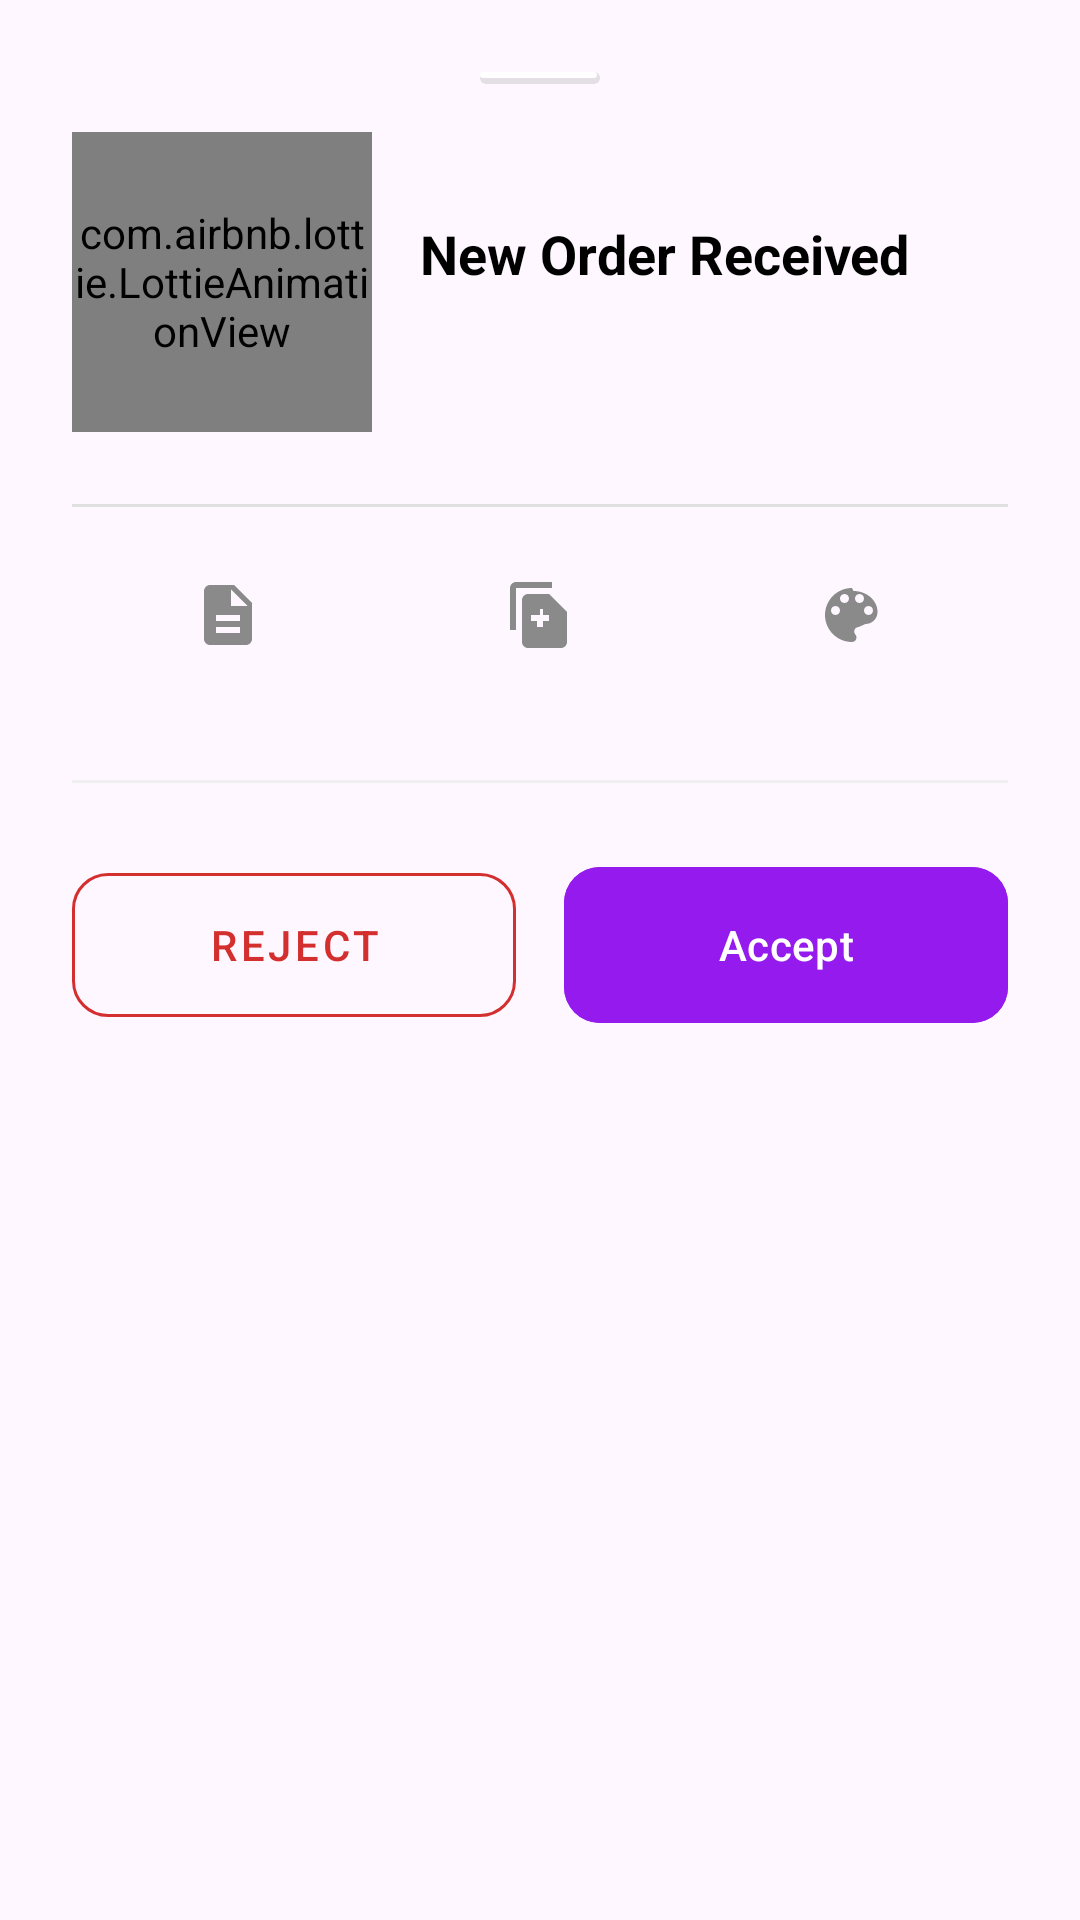

Screen size 1080x1920. Icon name, then its box in pixels as (x1=x1, y1=y1, x2=x2, y2=y2):
copies details: (x1=510, y1=582, x2=567, y2=648)
file count: (x1=204, y1=585, x2=252, y2=645)
print type: (x1=825, y1=588, x2=878, y2=642)
